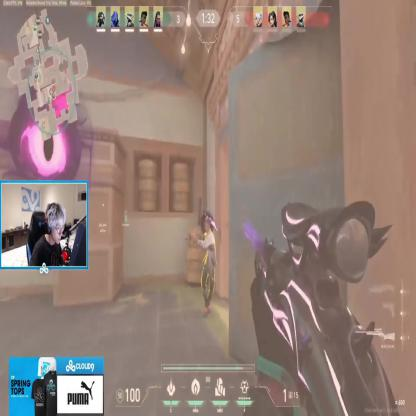enemy: (197, 217, 217, 315)
enemy_head: (204, 217, 211, 233)
